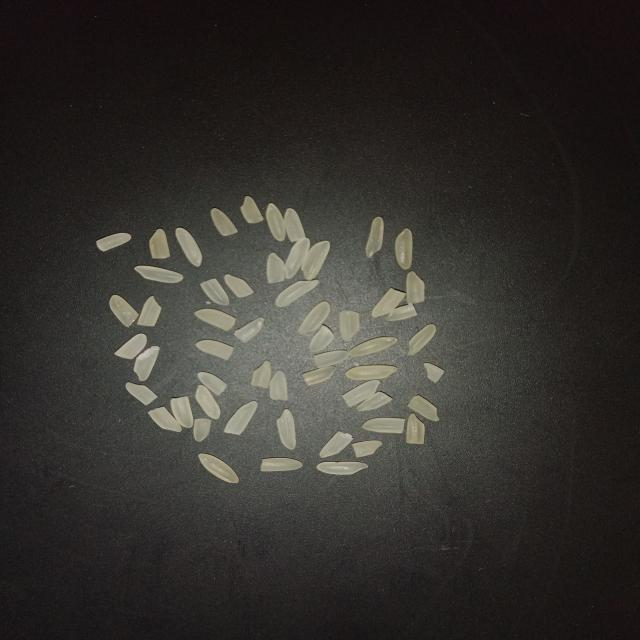Broken: (224, 400, 259, 434), (342, 380, 381, 408), (371, 288, 406, 317), (110, 295, 140, 328), (195, 308, 236, 331), (320, 431, 354, 458), (134, 346, 160, 381), (407, 395, 440, 421), (114, 333, 147, 359), (148, 407, 182, 432), (200, 278, 230, 306), (210, 208, 238, 237), (195, 340, 234, 360), (234, 317, 264, 343), (137, 296, 162, 327), (126, 382, 158, 406), (284, 208, 306, 242), (224, 274, 255, 298), (171, 396, 194, 428), (148, 228, 171, 260), (309, 324, 335, 352), (357, 391, 392, 411), (198, 372, 228, 395), (96, 233, 132, 252), (239, 196, 264, 223), (339, 310, 360, 341), (313, 350, 349, 368), (302, 366, 336, 385), (260, 457, 303, 472), (363, 418, 405, 433), (406, 271, 425, 304), (266, 253, 286, 283), (269, 370, 288, 401), (251, 360, 271, 389), (351, 440, 383, 458), (406, 413, 424, 445), (386, 303, 418, 321), (193, 418, 212, 442), (423, 362, 445, 382)
Full: (275, 279, 320, 307), (199, 454, 239, 484), (301, 240, 330, 280), (298, 300, 331, 334), (284, 238, 311, 279), (175, 228, 203, 267), (349, 336, 397, 356), (407, 323, 436, 356), (195, 384, 221, 419), (134, 266, 184, 284), (277, 408, 297, 450), (394, 228, 414, 270), (346, 365, 398, 380), (266, 203, 286, 241), (366, 216, 384, 258), (316, 461, 368, 475)
